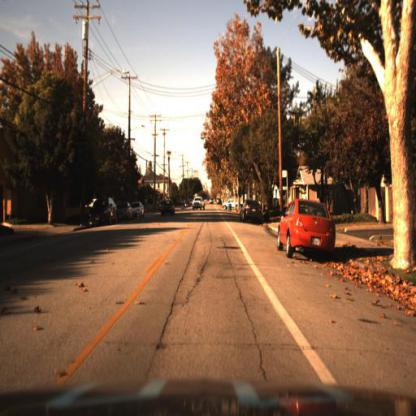car: (274, 195, 339, 260), (90, 194, 119, 229), (239, 199, 264, 225), (115, 199, 135, 226), (161, 197, 176, 216), (224, 199, 242, 213), (192, 196, 206, 213)
